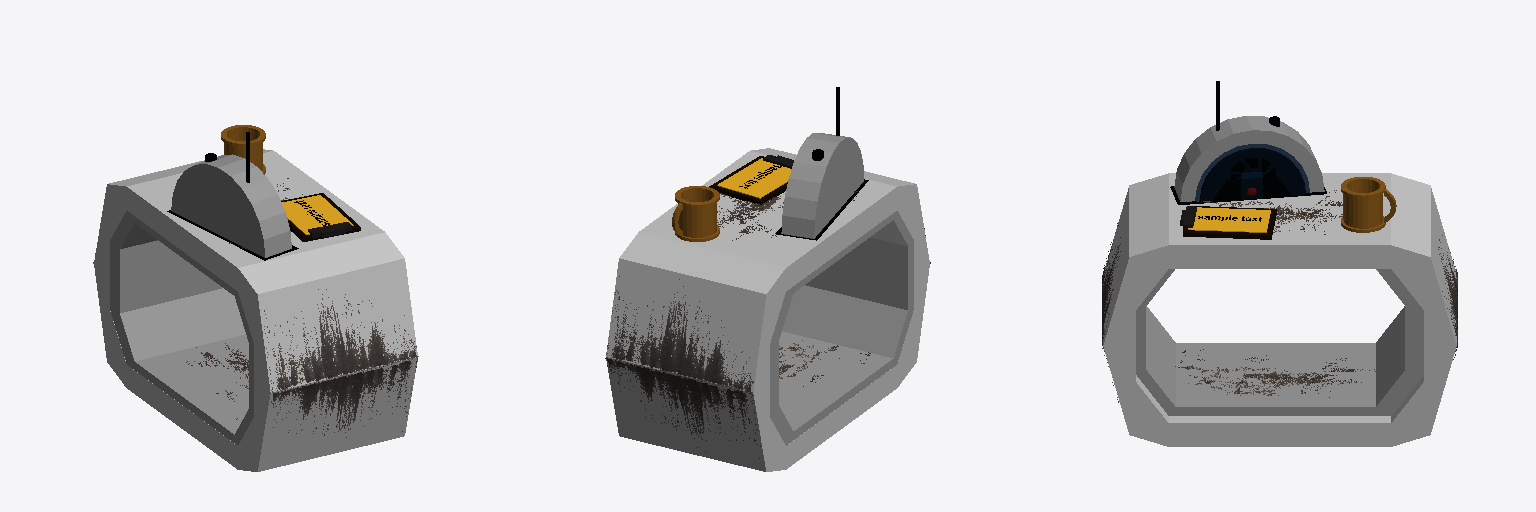
3 renders of one model, left to right at view 1: azimuth 30°, elevation 25°; view 2: azimuth 150°, elevation 25°; view 3: azimuth 270°, elevation 25°, orthographic.
Parts seen in each view (by area): view 1: Wedge19, Wedge30, Union12, Part14, Part16, Wedge13, Wedge17, Wedge20, Part12, Wedge31, Part8, Part24 (+10 smaller); view 2: Wedge22, Wedge27, Part16, Part14, Union12, Wedge16, Wedge18, Wedge23, Wedge28, Part13, Union1, Part11 (+11 smaller); view 3: Part14, Part16, Part24, Union12, Part19, Wedge17, Wedge18, Union11, Part20, Wedge19, Wedge22, Wedge13 (+18 smaller).
Part boxes in pixels (left/top/right/bottom): Wedge19: left=258, top=258, right=417, bottom=392; Wedge30: left=258, top=357, right=417, bottom=471; Union12: left=171, top=154, right=291, bottom=257; Part14: left=123, top=334, right=248, bottom=445; Part16: left=127, top=151, right=384, bottom=279; Wedge13: left=120, top=288, right=245, bottom=361; Wedge17: left=238, top=232, right=403, bottom=293; Wedge20: left=264, top=289, right=418, bottom=392; Part12: left=117, top=264, right=222, bottom=340; Wedge31: left=271, top=358, right=417, bottom=437; Part8: left=117, top=223, right=189, bottom=280; Part24: left=107, top=351, right=257, bottom=471; Wedge22: left=606, top=258, right=765, bottom=392; Wedge27: left=606, top=357, right=765, bottom=471; Part16: left=639, top=151, right=896, bottom=279; Part14: left=779, top=331, right=900, bottom=445; Union12: left=781, top=133, right=863, bottom=238; Wedge16: left=782, top=285, right=907, bottom=357; Wedge18: left=620, top=232, right=785, bottom=293; Wedge23: left=606, top=276, right=753, bottom=392; Wedge28: left=605, top=358, right=760, bottom=458; Part13: left=805, top=261, right=910, bottom=327; Union1: left=675, top=186, right=719, bottom=241; Part11: left=838, top=231, right=910, bottom=277; Part14: left=1162, top=343, right=1397, bottom=415; Part16: left=1169, top=173, right=1390, bottom=256; Part24: left=1129, top=416, right=1430, bottom=434; Union12: left=1174, top=116, right=1324, bottom=201; Part19: left=1129, top=257, right=1430, bottom=268; Wedge17: left=1129, top=173, right=1168, bottom=256; Wedge18: left=1391, top=173, right=1430, bottom=256; Union11: left=1200, top=148, right=1305, bottom=202; Part20: left=1169, top=435, right=1390, bottom=446; Wedge19: left=1103, top=188, right=1128, bottom=345; Wedge22: left=1431, top=188, right=1456, bottom=345; Wedge13: left=1376, top=306, right=1404, bottom=406.
Bounding box in the file's own units: 2.25 × 4.52 × 4.7.
Materials: 27 (3 with a texture image).